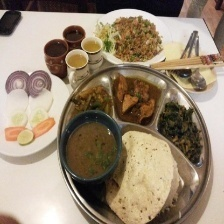sabzi: (157, 99, 203, 163)
